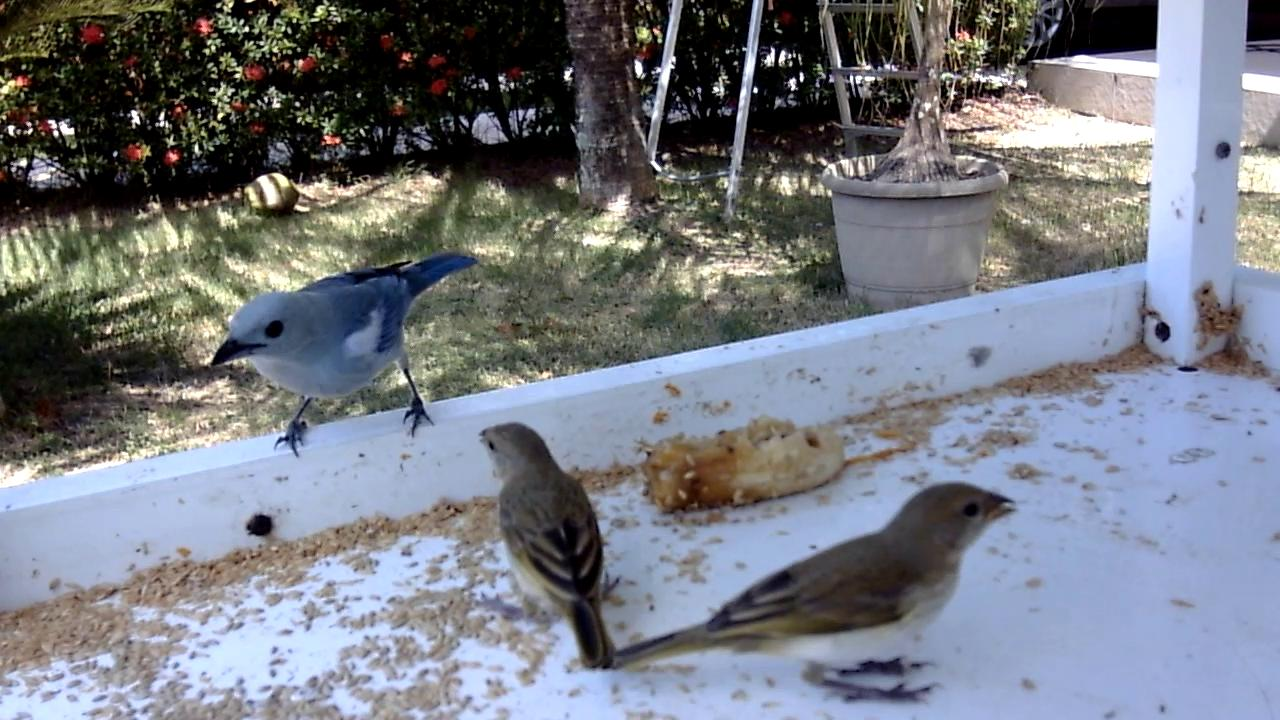canario_do_amazonas: (615, 480, 1020, 707), (479, 422, 623, 671)
sanhaco_da_amazonia: (212, 249, 480, 463)
